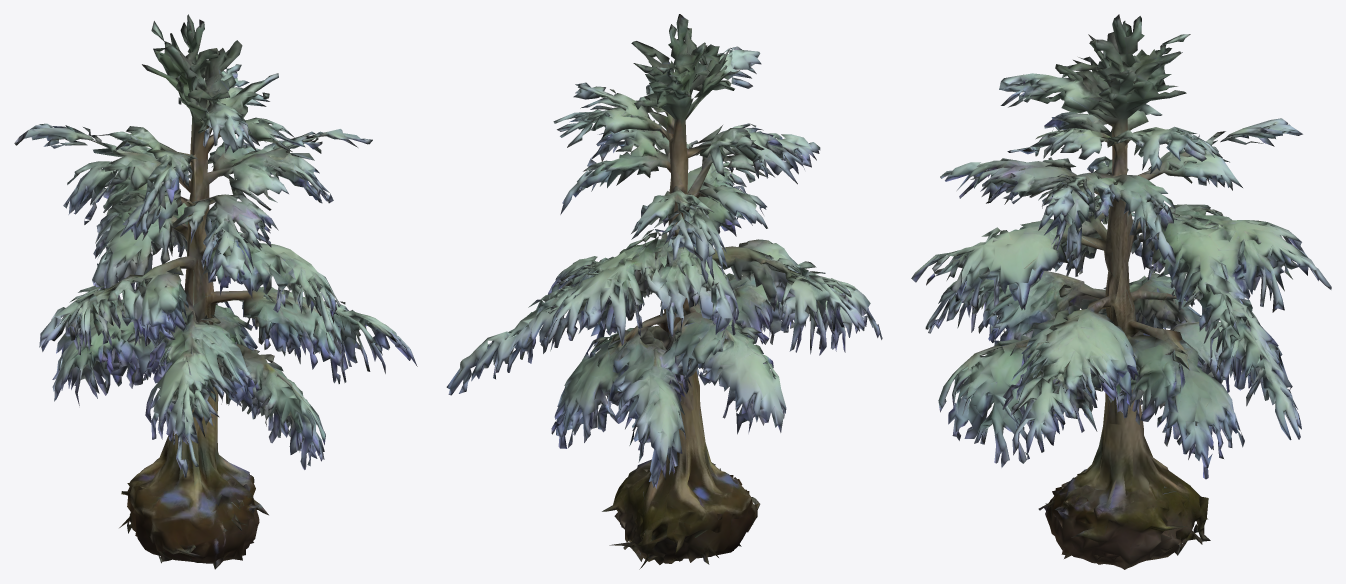
File: tree_cedar_sapling_glow.glb
3 views of the same model, side by side, from view 1: azimuth 30°, elevation 25°; view 2: azimuth 150°, elevation 25°; view 3: azimuth 270°, elevation 25° (orthographic). The views are drawn at different scales.
Size of the model in its own units: 1.33 by 2 by 1.4.
1 material, 1 textured.
